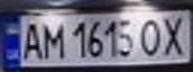1: (66, 18, 87, 58), (103, 17, 121, 59)
5: (115, 15, 139, 58)
6: (84, 18, 106, 58)
A: (18, 19, 45, 61)
M: (39, 18, 66, 60)
O: (136, 15, 166, 57)
X: (157, 12, 190, 57)
